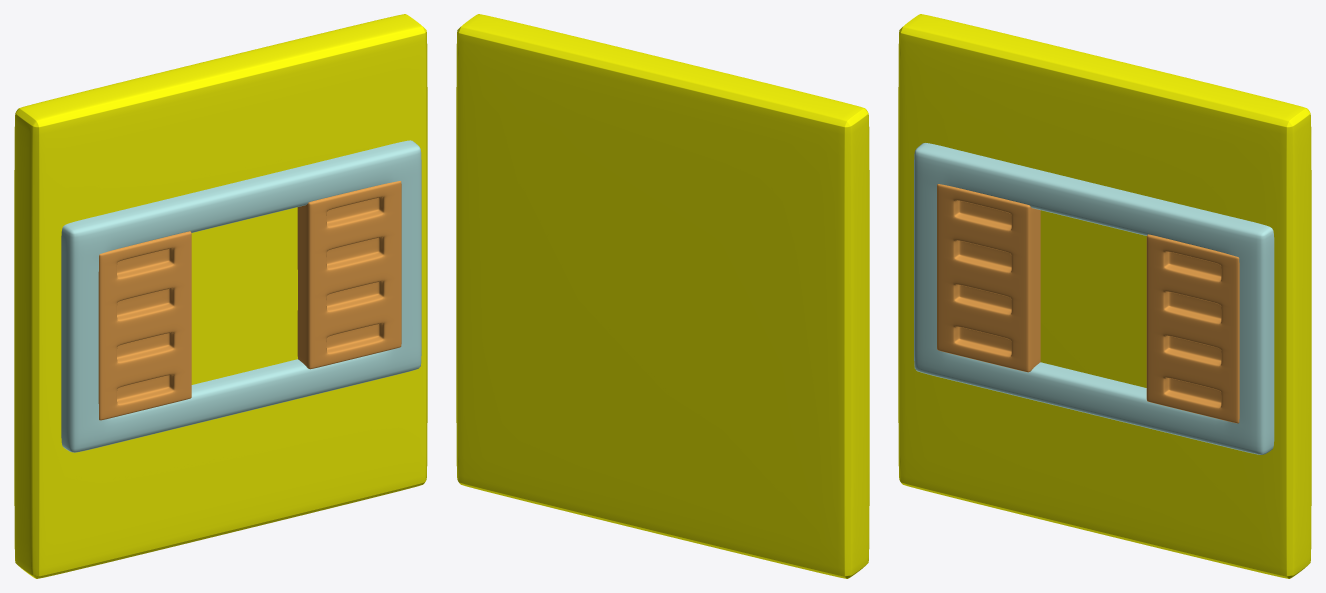
3 views of the same model, side by side, from view 1: azimuth 30°, elevation 25°; view 2: azimuth 150°, elevation 25°; view 3: azimuth 330°, elevation 25° (orthographic).
Parts seen in each view (by area): view 1: polySurface1404; view 2: polySurface1404; view 3: polySurface1404.
Part boxes in pixels (x1,y1,x2,y2): polySurface1404: (14, 14, 427, 578); polySurface1404: (456, 14, 869, 578); polySurface1404: (898, 14, 1311, 578).
Size of the model in its own units: 0.8996 by 0.9995 by 0.1437.
